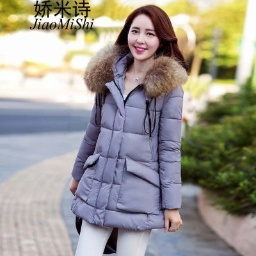face: (115, 3, 182, 61)
